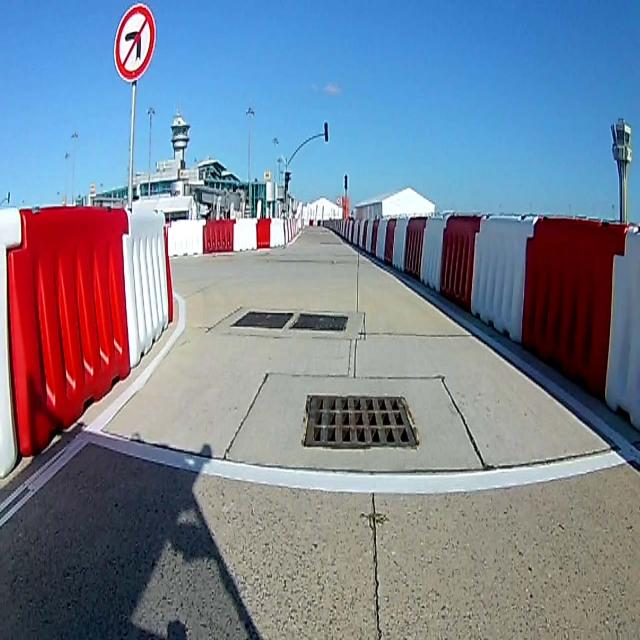soladonulmez: (112, 4, 158, 82)
